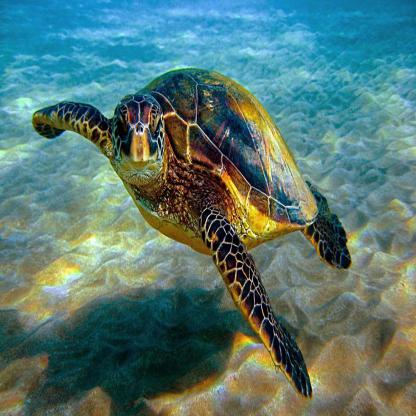turtle: (108, 88, 170, 191)
